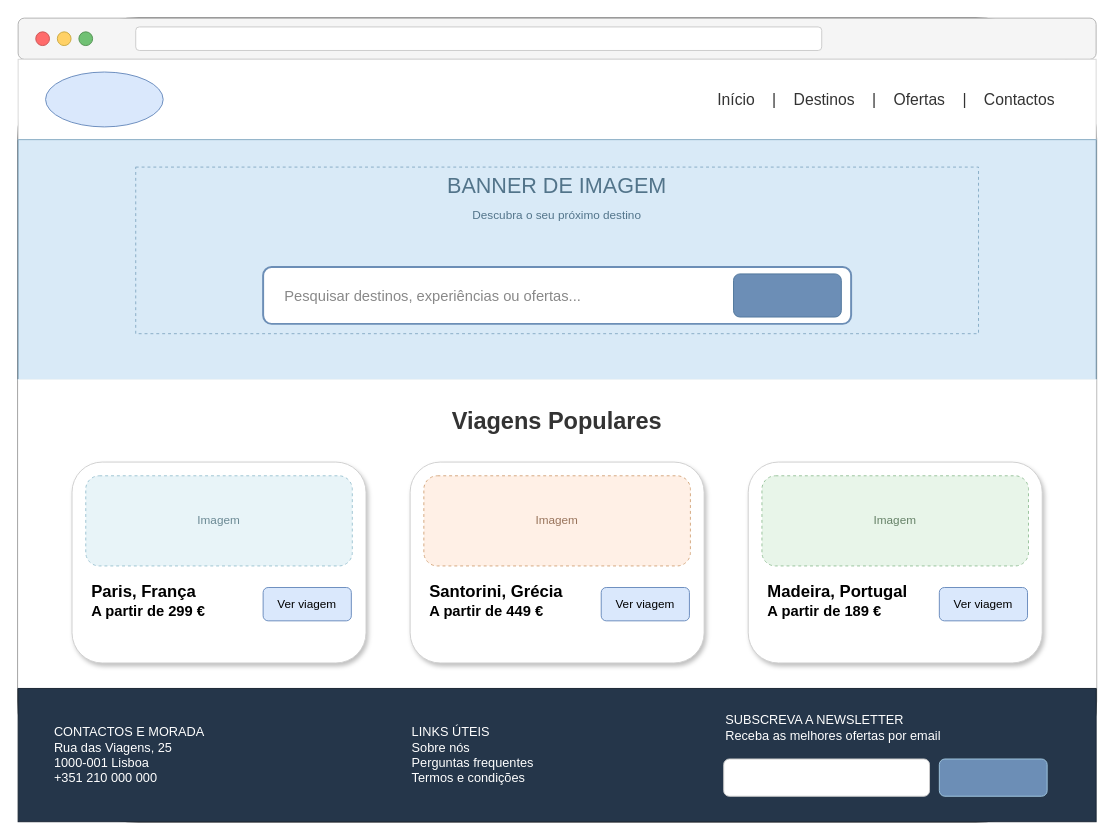
Image size: 1113x839. Some labels were removed from this diagram. Here are the shapes that lost their labels. From the top down, the centre of each, then its label:
At [478,38]: "www.Rotas&Destinos.pt".
At [104,99]: "LOGOTIPO VIAGENS".
At [787,295]: "Pesquisar".
At [826,777]: "O seu email".
At [992,777]: "Subscrever".
